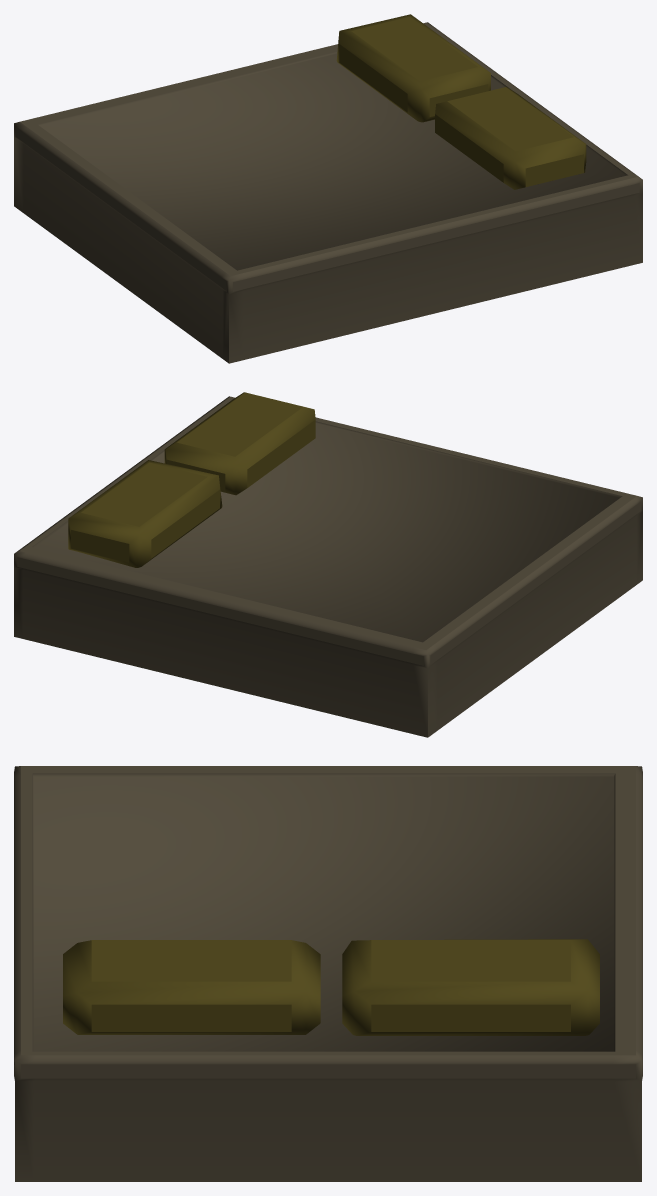
The model's file is Bett.fbx.
The picture shows the model from 3 angles, top to bottom: view 1: azimuth 30°, elevation 25°; view 2: azimuth 150°, elevation 25°; view 3: azimuth 270°, elevation 25°; orthographic projection. The views are drawn at different scales.
Visible parts, largest first — view 1: Würfel, Würfel_2, Würfel_1; view 2: Würfel, Würfel_1, Würfel_2; view 3: Würfel, Würfel_1, Würfel_2.
Part boxes in pixels (x1,y1,x2,y2): Würfel: [14, 22, 642, 363]; Würfel_2: [435, 87, 586, 189]; Würfel_1: [336, 14, 490, 122]; Würfel: [14, 396, 642, 737]; Würfel_1: [68, 460, 222, 567]; Würfel_2: [164, 392, 315, 495]; Würfel: [14, 766, 642, 1181]; Würfel_1: [342, 939, 599, 1035]; Würfel_2: [63, 940, 320, 1034].
Bounding box in the file's own units: 200 × 53.85 × 181.
